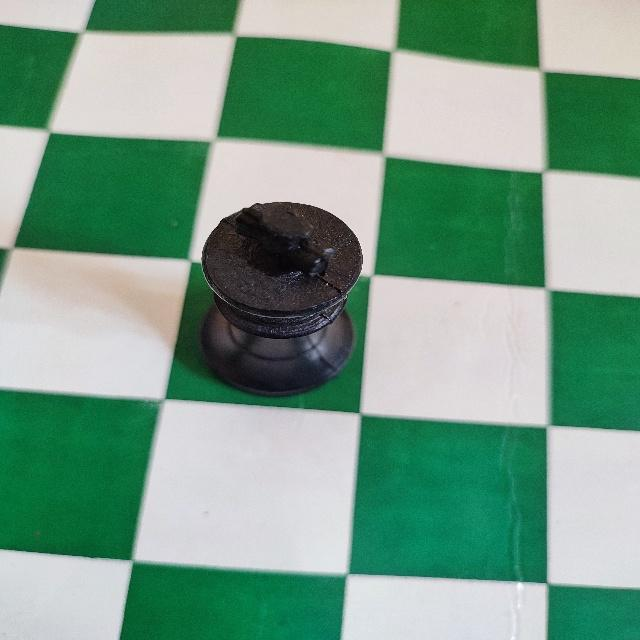King: (199, 197, 364, 399)
